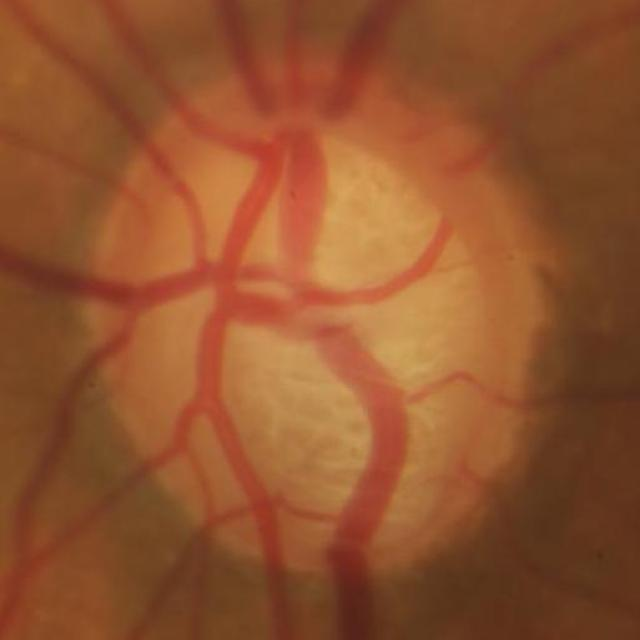OC: (158, 135, 483, 533)
OD: (79, 75, 564, 592)
